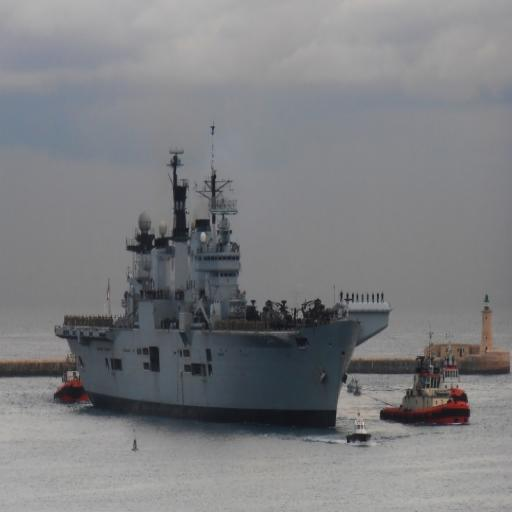Portanaves: (51, 116, 393, 435)
